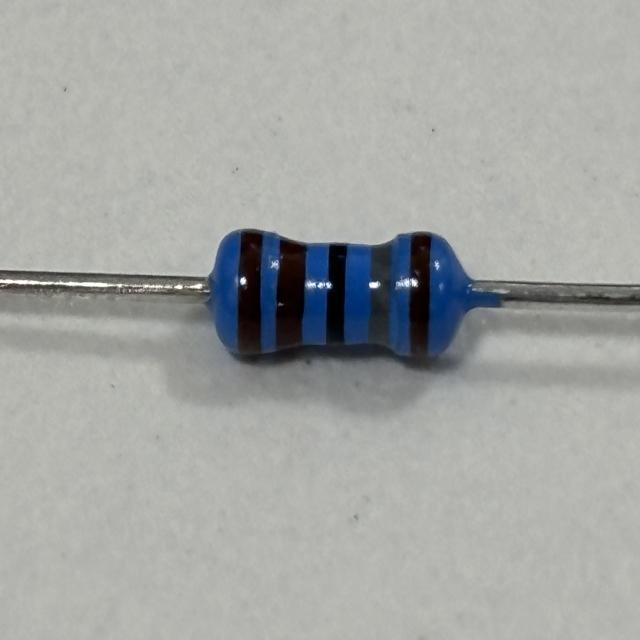resistor: (218, 225, 451, 368)
